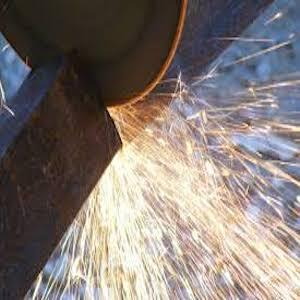heat: (98, 100, 284, 290)
